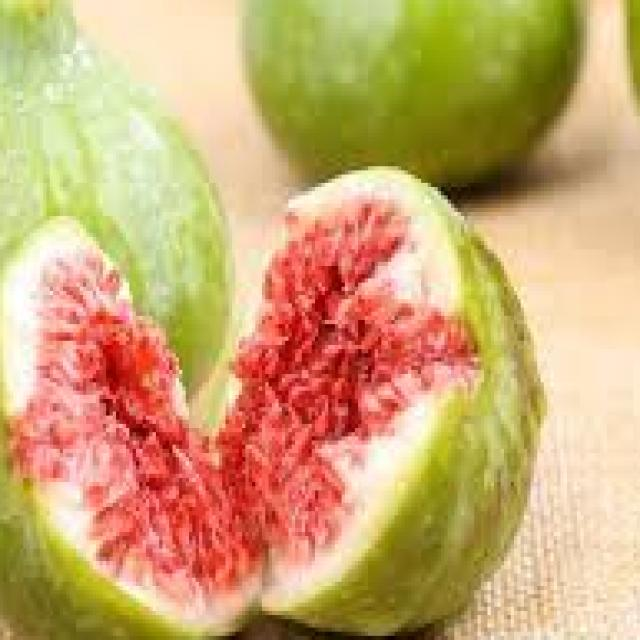inorganic: (4, 177, 565, 605), (4, 8, 254, 377), (235, 1, 592, 203)
